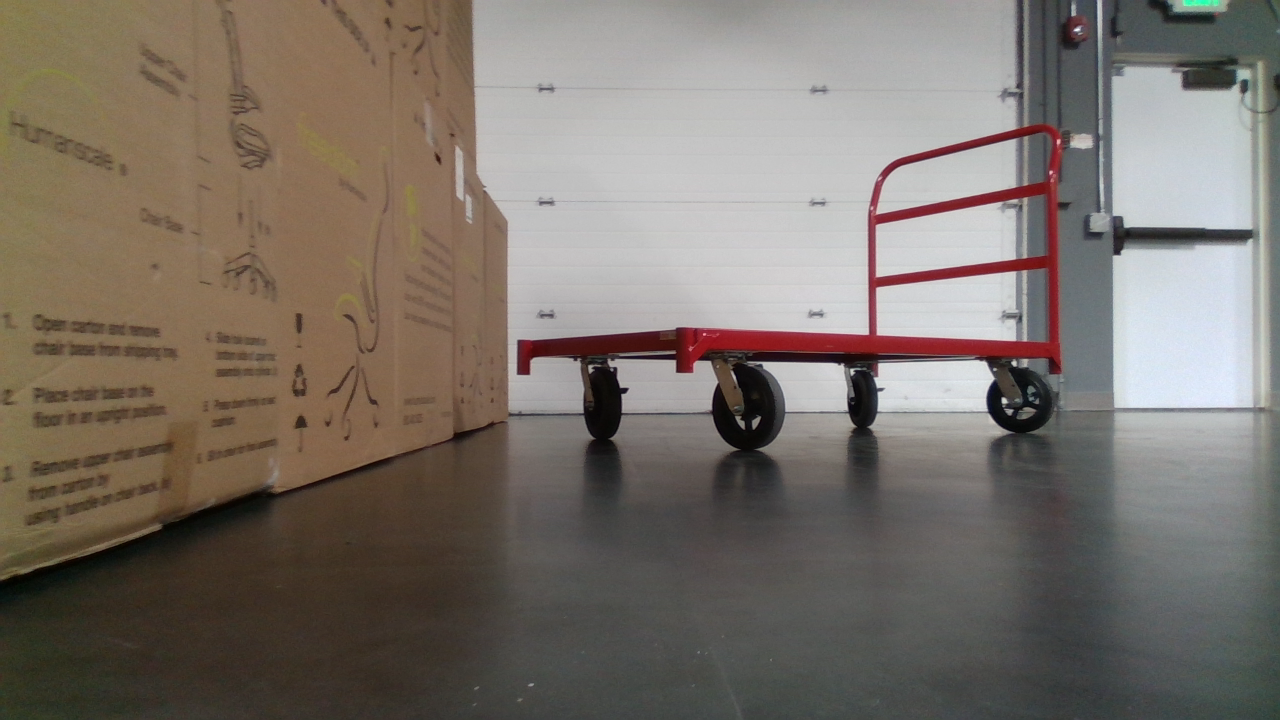Dolly: (514, 116, 1074, 460)
Wheel: (701, 358, 796, 455), (981, 368, 1059, 435), (578, 373, 629, 438), (842, 371, 883, 429)
